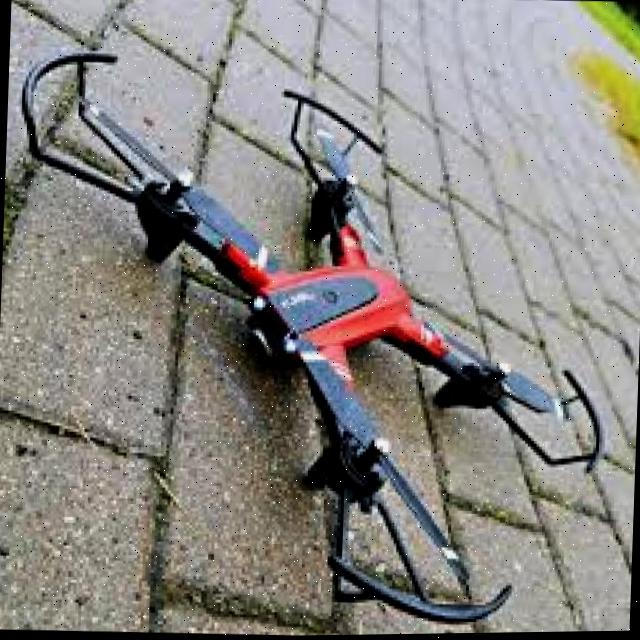drone: (0, 19, 613, 640)
